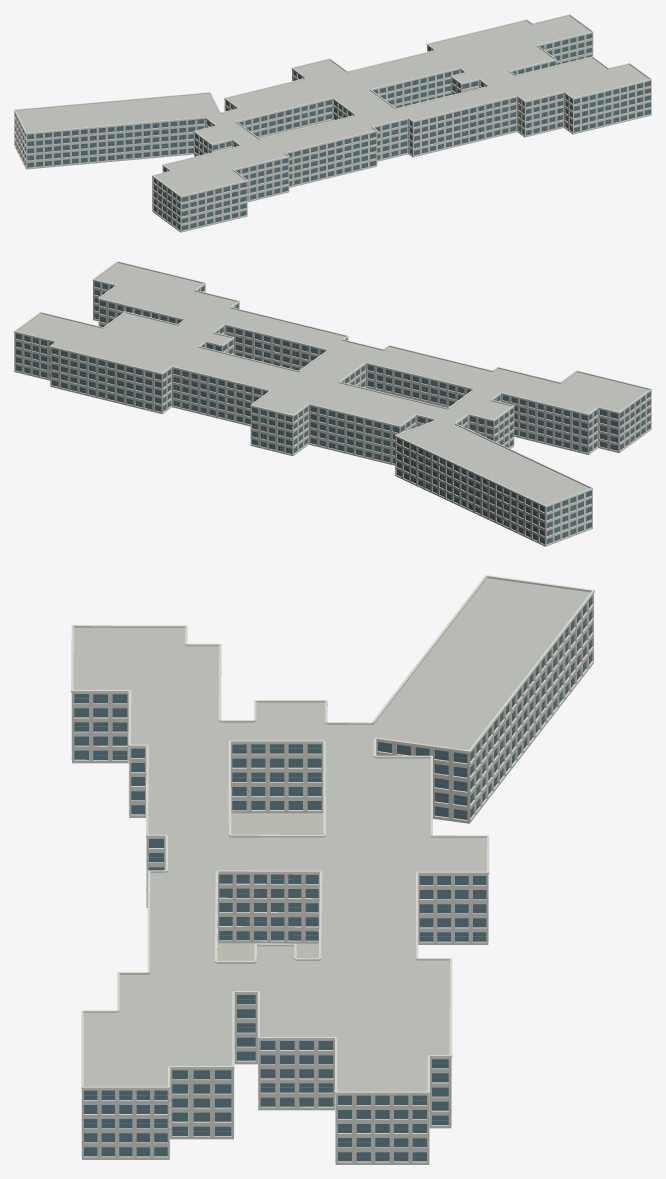
File: teaching1.glb
3 views of the same model, one above another, from view 1: azimuth 30°, elevation 25°; view 2: azimuth 150°, elevation 25°; view 3: azimuth 270°, elevation 25° (orthographic). The views are drawn at different scales.
Parts seen in each view (by area): view 1: roof, wall, glass, trim, metal; view 2: roof, wall, glass, trim, metal; view 3: roof, wall, glass, trim, metal, paving.
Boxes of the visible parts, <box> form: roof: <box>16,16,648,195</box>; wall: <box>14,33,651,232</box>; glass: <box>15,33,650,230</box>; trim: <box>14,14,651,231</box>; metal: <box>15,36,649,228</box>; roof: <box>17,263,648,505</box>; wall: <box>14,280,651,546</box>; glass: <box>15,281,650,543</box>; trim: <box>14,261,651,544</box>; metal: <box>16,282,649,542</box>; roof: <box>73,578,590,1091</box>; wall: <box>72,594,593,1164</box>; glass: <box>74,597,591,1161</box>; trim: <box>71,575,594,1162</box>; metal: <box>74,599,592,1161</box>; paving: <box>217,813,323,960</box>.
Bounding box in the file's own units: 250 × 16.34 × 107.
